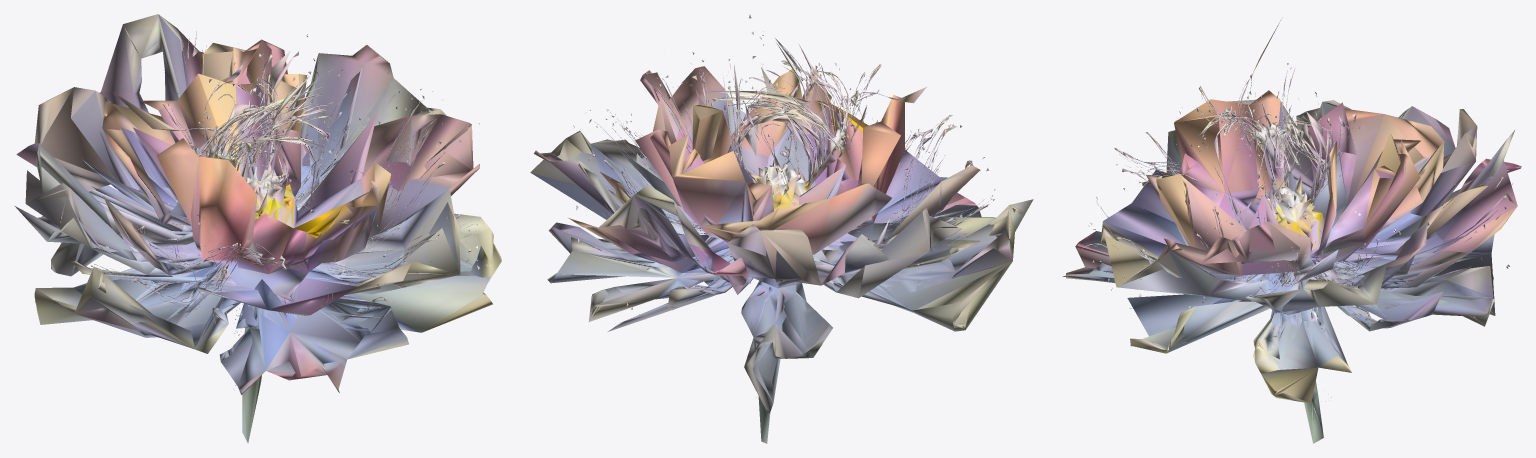
File: Luminous_Paper_Flower.glb
3 views of the same model, side by side, from view 1: azimuth 30°, elevation 25°; view 2: azimuth 150°, elevation 25°; view 3: azimuth 270°, elevation 25° (orthographic). The views are drawn at different scales.
Visible parts, largest first — view 1: Luminous_Paper_Flower; view 2: Luminous_Paper_Flower; view 3: Luminous_Paper_Flower.
Part boxes in pixels (x1,y1,x2,y2): Luminous_Paper_Flower: (15, 14, 501, 443); Luminous_Paper_Flower: (530, 14, 1033, 443); Luminous_Paper_Flower: (1063, 17, 1521, 443).
Bounding box in the file's own units: 1.82 × 1.62 × 1.87.
1 material, 1 textured.
